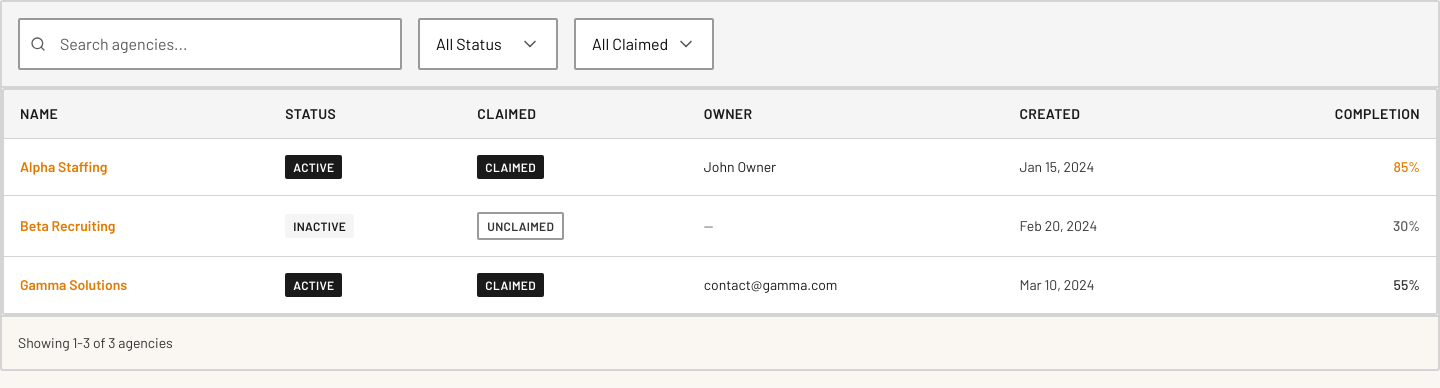
Test case: AdminAgenciesTable › Search Filtering › filters agencies by search term
This screenshot has width=1440, height=388.
Type "Alpha" into the field with test id "agency-search-input" at (210, 44), box top-left (18, 18), bottom-right (402, 70)
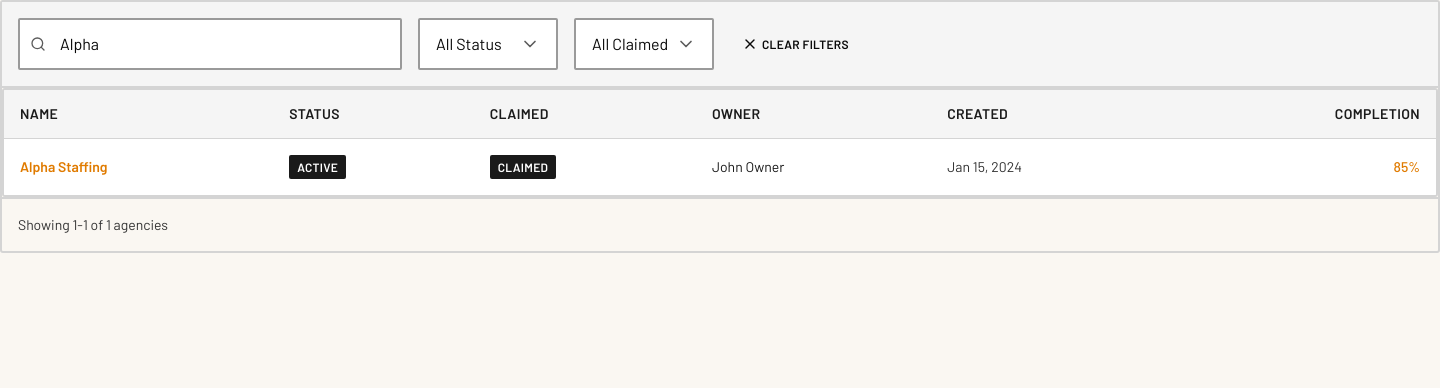
Expected: the link "Alpha Staffing" is shown, top-left (20, 158), bottom-right (108, 174)
Expected: the link "Beta Recruiting" is gone
Expected: the link "Gamma Solutions" is gone
